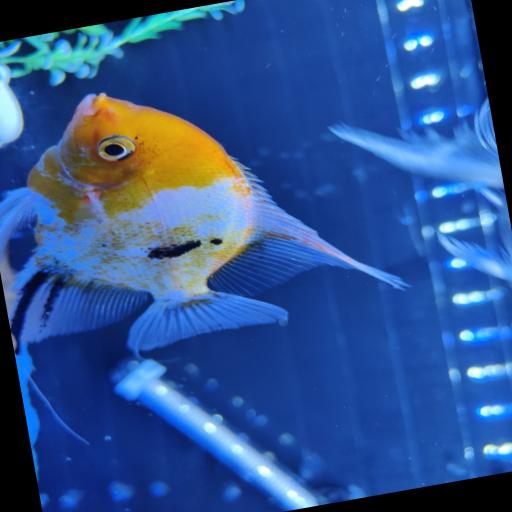Fish: (0, 94, 406, 353), (329, 98, 511, 282)
